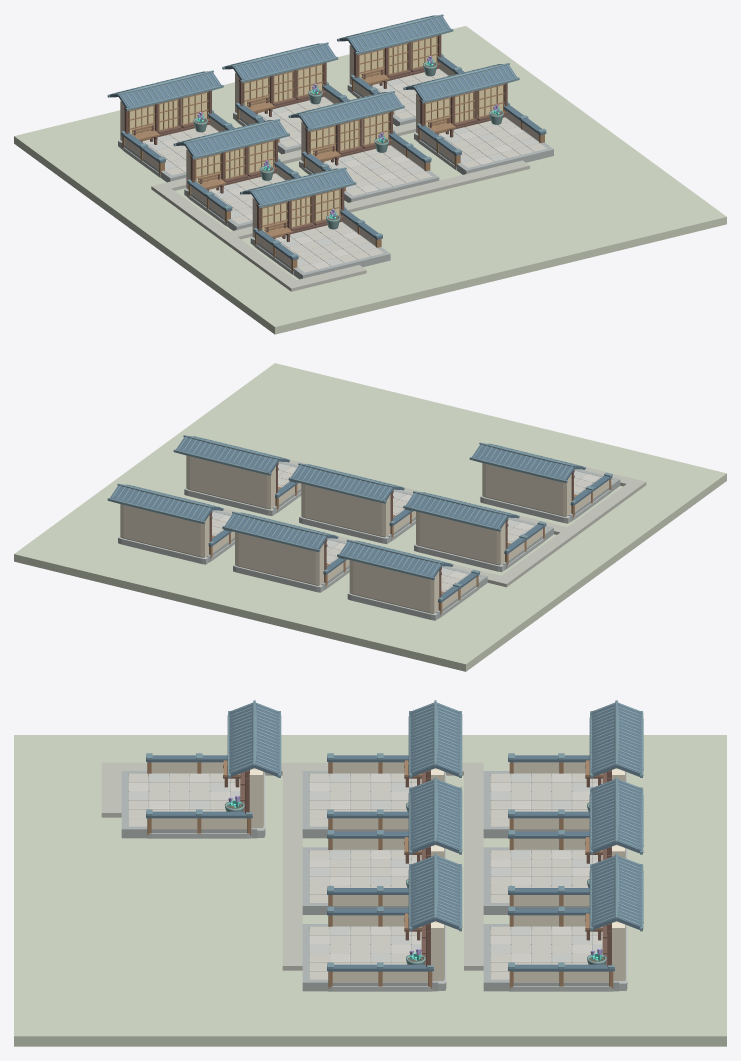
Rendered from gggame_courtyard_paving_soft_v3_07.glb.
3 renders of one model, top to bottom at view 1: azimuth 30°, elevation 25°; view 2: azimuth 150°, elevation 25°; view 3: azimuth 270°, elevation 25°, orthographic. The views are drawn at different scales.
Parts seen in each view (by area): view 1: ground, home-6-decor, home-5-decor, home-3-decor, home-0-decor, home-4-decor, home-2-decor, home-1-decor, home-6-floor, home-5-floor, home-4-floor, walkway-spine (+5 smaller); view 2: ground, home-0-decor, home-6-decor, home-3-decor, home-5-decor, home-2-decor, home-1-decor, home-4-decor, walkway-spine, home-0-floor, home-3-floor, home-6-floor; view 3: ground, home-5-decor, home-6-decor, home-2-decor, home-0-decor, home-3-decor, home-1-decor, home-4-decor, home-2-floor, home-5-floor, home-6-floor, home-0-floor (+8 smaller).
Part boxes in pixels (x1=…): ground: x1=14, y1=26, x2=726, y2=334; home-6-decor: x1=240, y1=167, x2=382, y2=274; home-5-decor: x1=403, y1=63, x2=546, y2=170; home-3-decor: x1=173, y1=119, x2=300, y2=226; home-0-decor: x1=107, y1=70, x2=234, y2=177; home-4-decor: x1=288, y1=91, x2=431, y2=191; home-2-decor: x1=337, y1=14, x2=464, y2=114; home-1-decor: x1=222, y1=42, x2=349, y2=142; home-6-floor: x1=253, y1=222, x2=390, y2=279; home-5-floor: x1=416, y1=117, x2=553, y2=174; home-4-floor: x1=301, y1=145, x2=439, y2=202; walkway-spine: x1=151, y1=183, x2=303, y2=291; ground: x1=14, y1=363, x2=726, y2=671; home-0-decor: x1=337, y1=539, x2=480, y2=620; home-6-decor: x1=469, y1=442, x2=612, y2=523; home-3-decor: x1=403, y1=491, x2=546, y2=572; home-5-decor: x1=173, y1=435, x2=301, y2=515; home-2-decor: x1=107, y1=483, x2=234, y2=564; home-1-decor: x1=222, y1=511, x2=349, y2=592; home-4-decor: x1=288, y1=463, x2=415, y2=543; walkway-spine: x1=494, y1=479, x2=646, y2=587; home-0-floor: x1=436, y1=566, x2=487, y2=618; home-3-floor: x1=502, y1=517, x2=553, y2=570; home-6-floor: x1=568, y1=469, x2=620, y2=521; ground: x1=14, y1=735, x2=726, y2=1046; home-5-decor: x1=327, y1=853, x2=462, y2=991; home-6-decor: x1=146, y1=700, x2=281, y2=838; home-2-decor: x1=508, y1=853, x2=643, y2=991; home-0-decor: x1=508, y1=700, x2=643, y2=829; home-3-decor: x1=327, y1=700, x2=462, y2=829; home-1-decor: x1=508, y1=777, x2=643, y2=906; home-4-decor: x1=327, y1=777, x2=462, y2=906; home-2-floor: x1=483, y1=924, x2=619, y2=991; home-5-floor: x1=302, y1=924, x2=438, y2=991; home-6-floor: x1=121, y1=771, x2=257, y2=838; home-0-floor: x1=483, y1=771, x2=602, y2=838.
Bounding box in the file's own units: 25.2 × 3.43 × 25.2.
